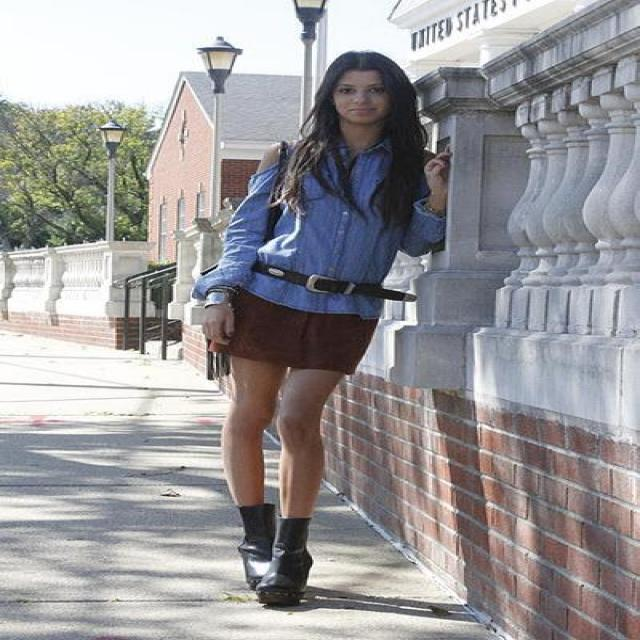shirt: (192, 140, 446, 314)
shoe: (238, 502, 312, 584)
skirt: (216, 285, 378, 370)
